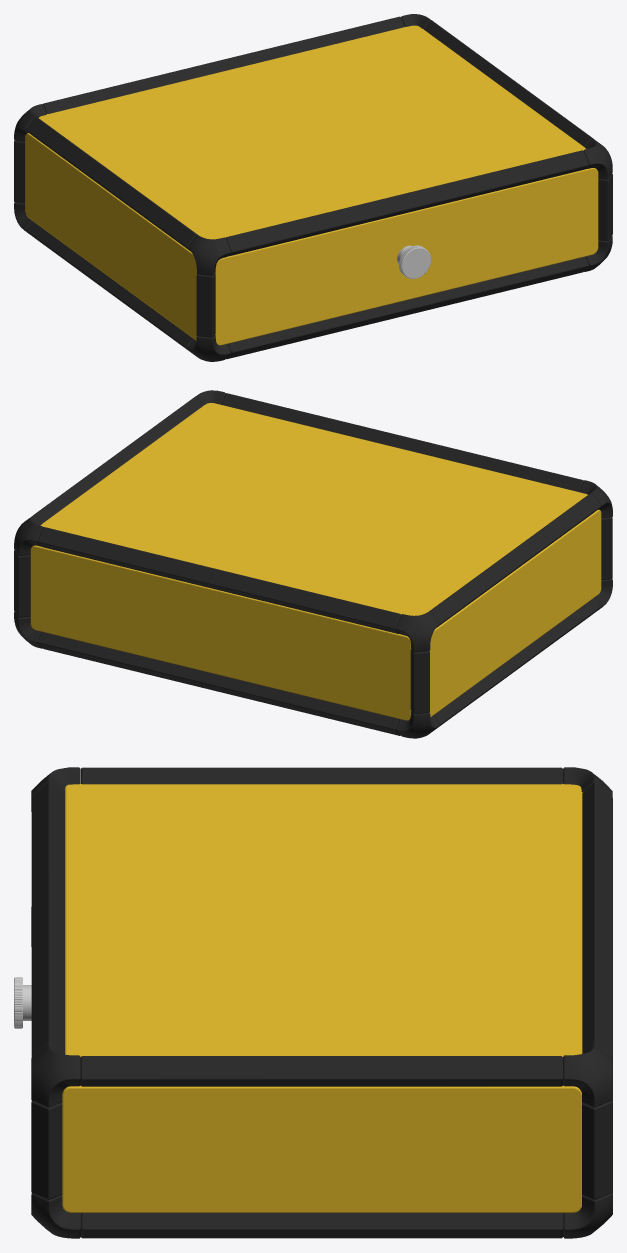
The picture shows the model from 3 angles, top to bottom: view 1: azimuth 30°, elevation 25°; view 2: azimuth 150°, elevation 25°; view 3: azimuth 270°, elevation 25°; orthographic projection. The views are drawn at different scales.
Visible parts, largest first — view 1: 479x374x79; view 2: 479x374x79; view 3: 479x374x79.
Part boxes in pixels (box(x1,y1,x2,y2)): 479x374x79: box(14, 14, 612, 361); 479x374x79: box(14, 390, 612, 738); 479x374x79: box(14, 767, 612, 1238).
Bounding box in the file's own units: 0.5567 × 0.1567 × 0.4646.
